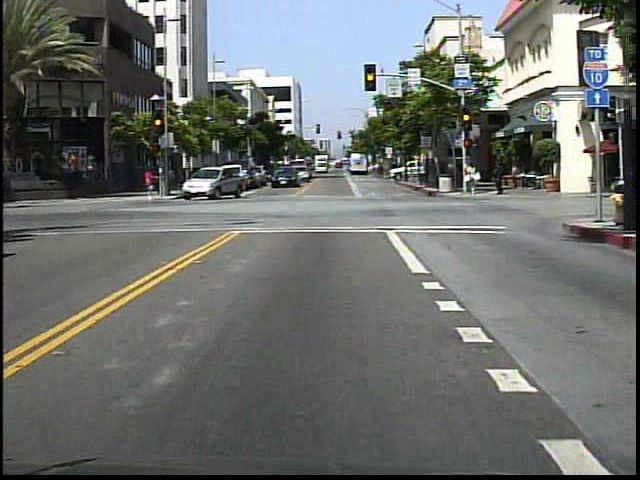person: (462, 157, 482, 198), (491, 158, 507, 198), (146, 167, 161, 198)
